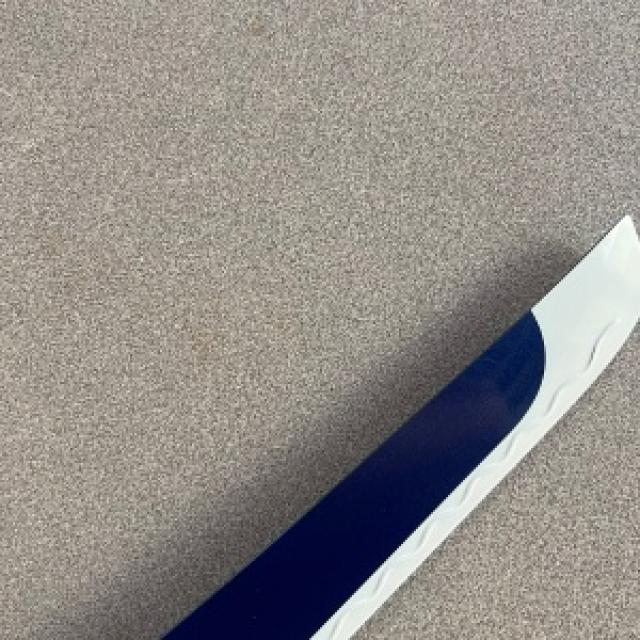healthy: (160, 215, 638, 638)
